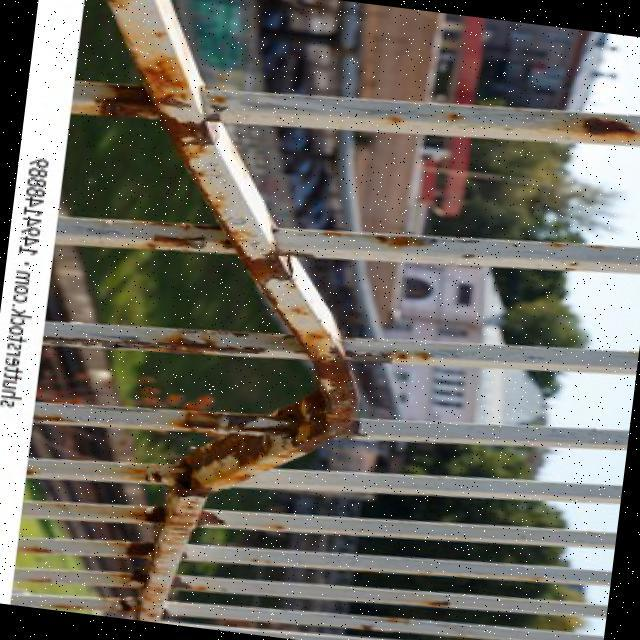fence line: (101, 243, 411, 529), (108, 282, 394, 518)
